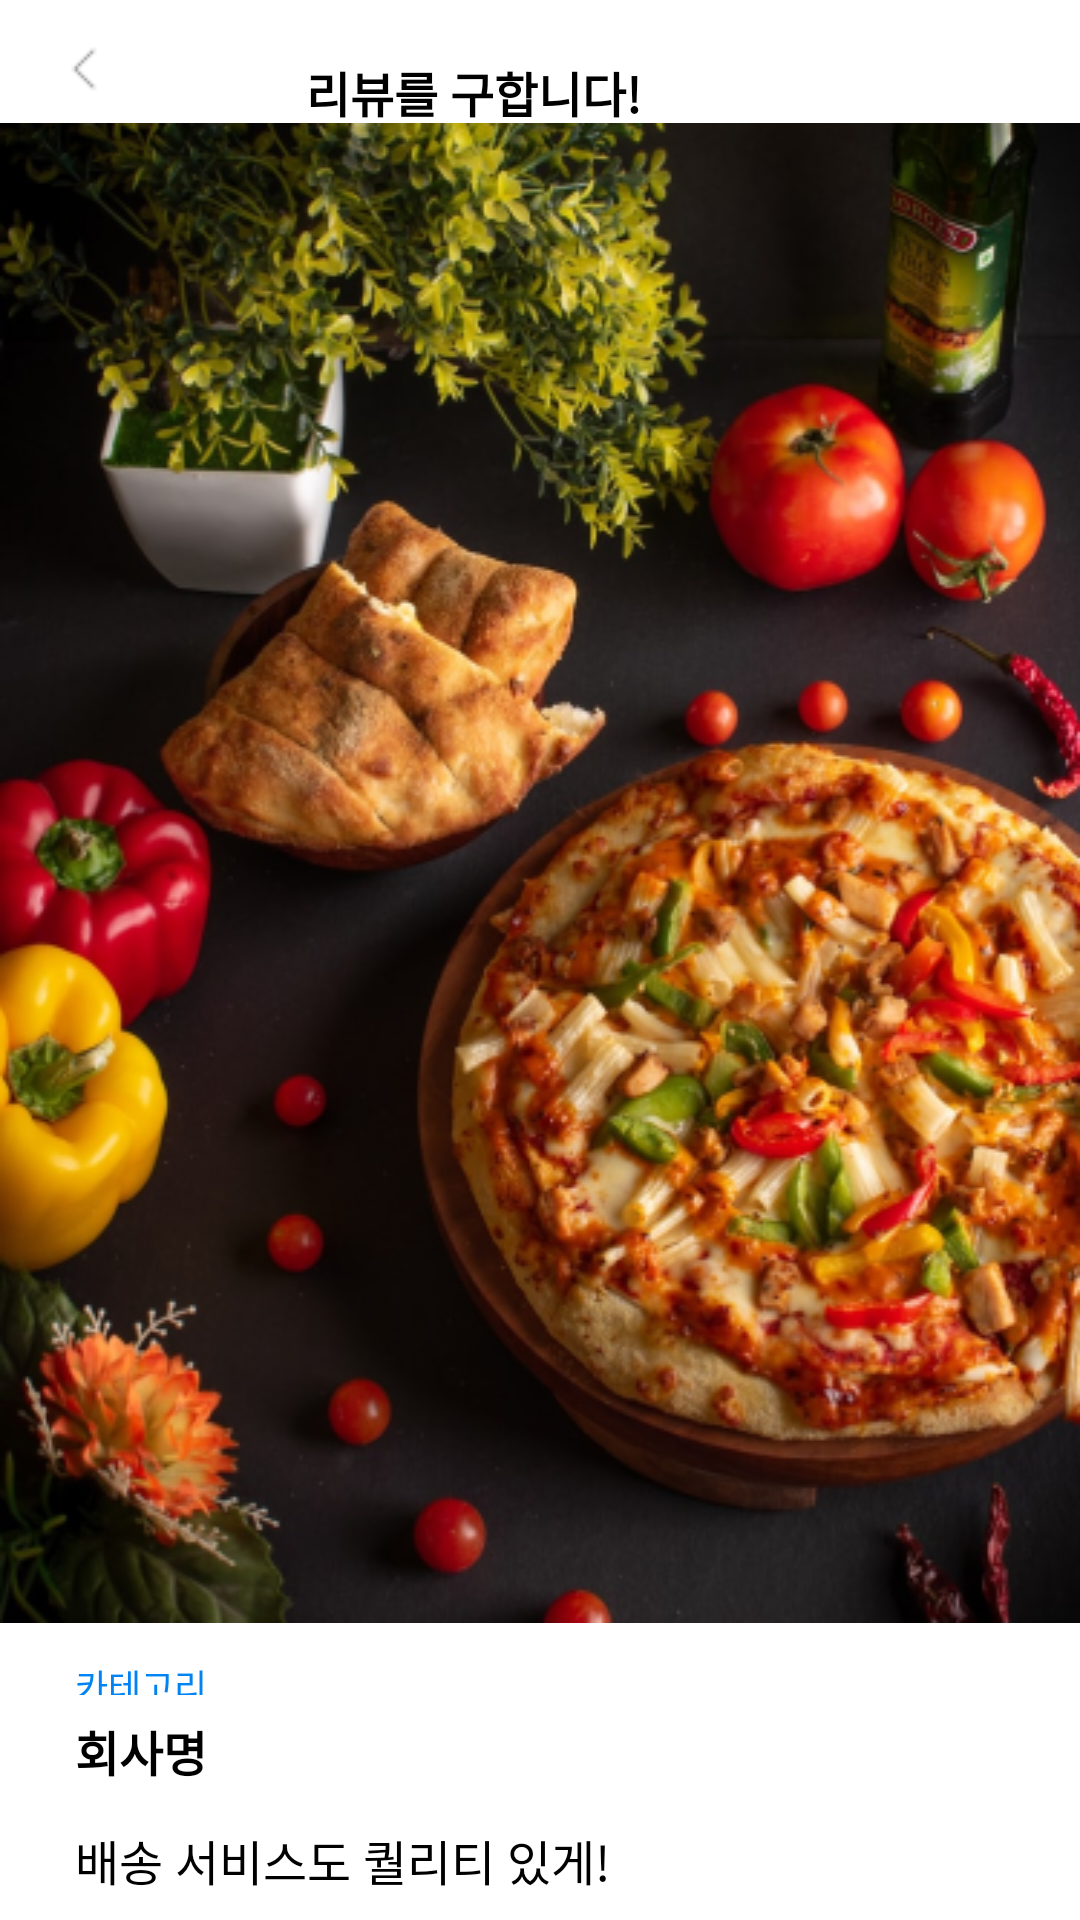

Named icons in this screenshot (1080w x 1920h) and their bounding boxes, (x1, y1, x2, y2):
back: (74, 50, 94, 88)
